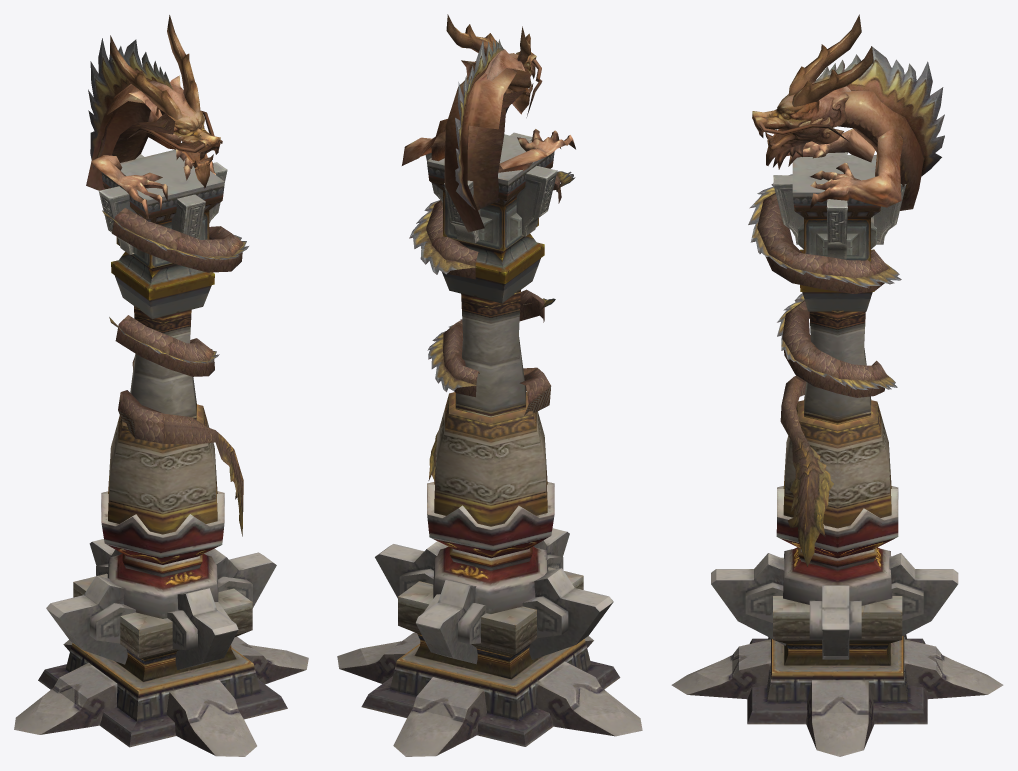
File: zc_longzhu02_53_41_8729out.fbx
The picture shows the model from 3 angles, left to right: view 1: azimuth 30°, elevation 25°; view 2: azimuth 150°, elevation 25°; view 3: azimuth 270°, elevation 25°; orthographic projection. The views are drawn at different scales.
Visible parts, largest first — view 1: zc_longzhu02; view 2: zc_longzhu02; view 3: zc_longzhu02.
Boxes of the visible parts, <box> form: zc_longzhu02: <box>14,15,308,756</box>; zc_longzhu02: <box>337,14,642,756</box>; zc_longzhu02: <box>671,14,1003,756</box>.
Size of the model in its own units: 0.8424 by 1.81 by 0.8347.
